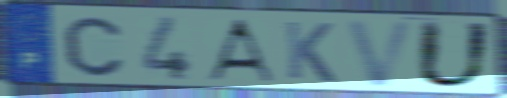4: (140, 14, 193, 82)
A: (203, 17, 277, 84)
C: (60, 14, 126, 79)
K: (282, 19, 338, 85)
U: (413, 19, 495, 91)
V: (342, 18, 419, 88)
